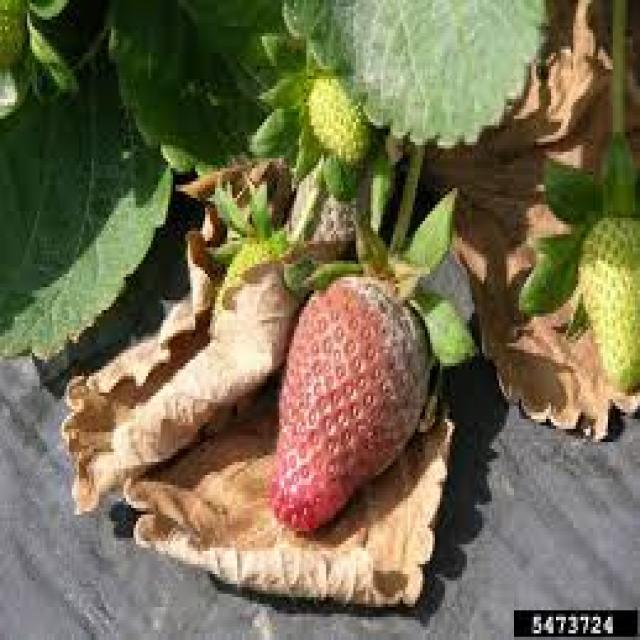Moho gris: (278, 257, 423, 517)
